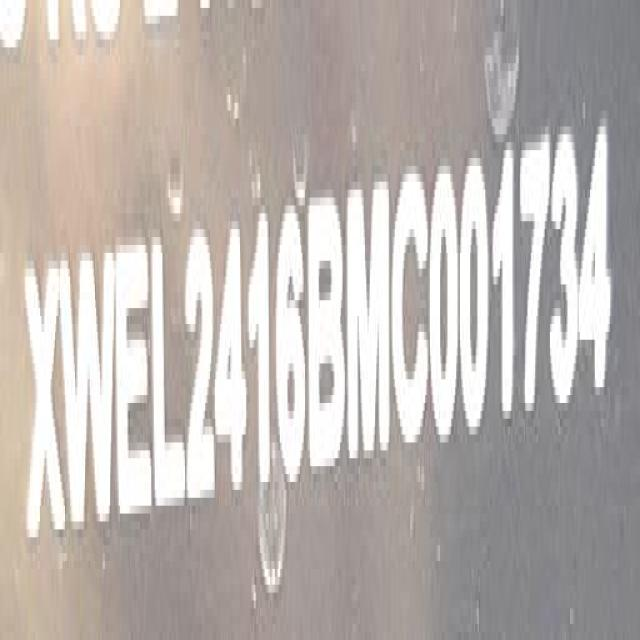0: (430, 159, 462, 453), (458, 144, 488, 444)
1: (491, 120, 515, 427), (252, 207, 274, 498)
2: (185, 220, 218, 516)
3: (551, 124, 582, 425)
4: (581, 112, 616, 414), (215, 213, 249, 504)
6: (276, 196, 309, 493)
7: (518, 123, 550, 431)
B: (308, 184, 346, 480)
C: (391, 163, 433, 457)
E: (117, 236, 154, 535)
L: (153, 224, 185, 523)
M: (347, 173, 392, 465)
W: (65, 247, 120, 550)
X: (26, 252, 68, 562)
